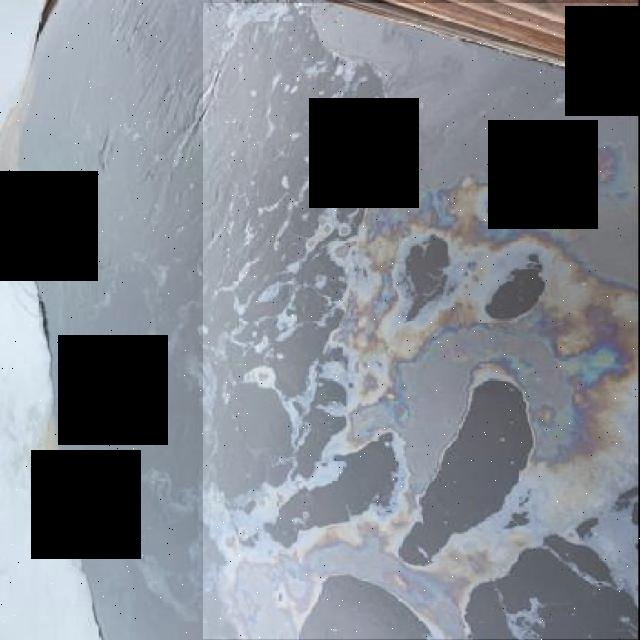oil spill: (203, 3, 638, 640)
